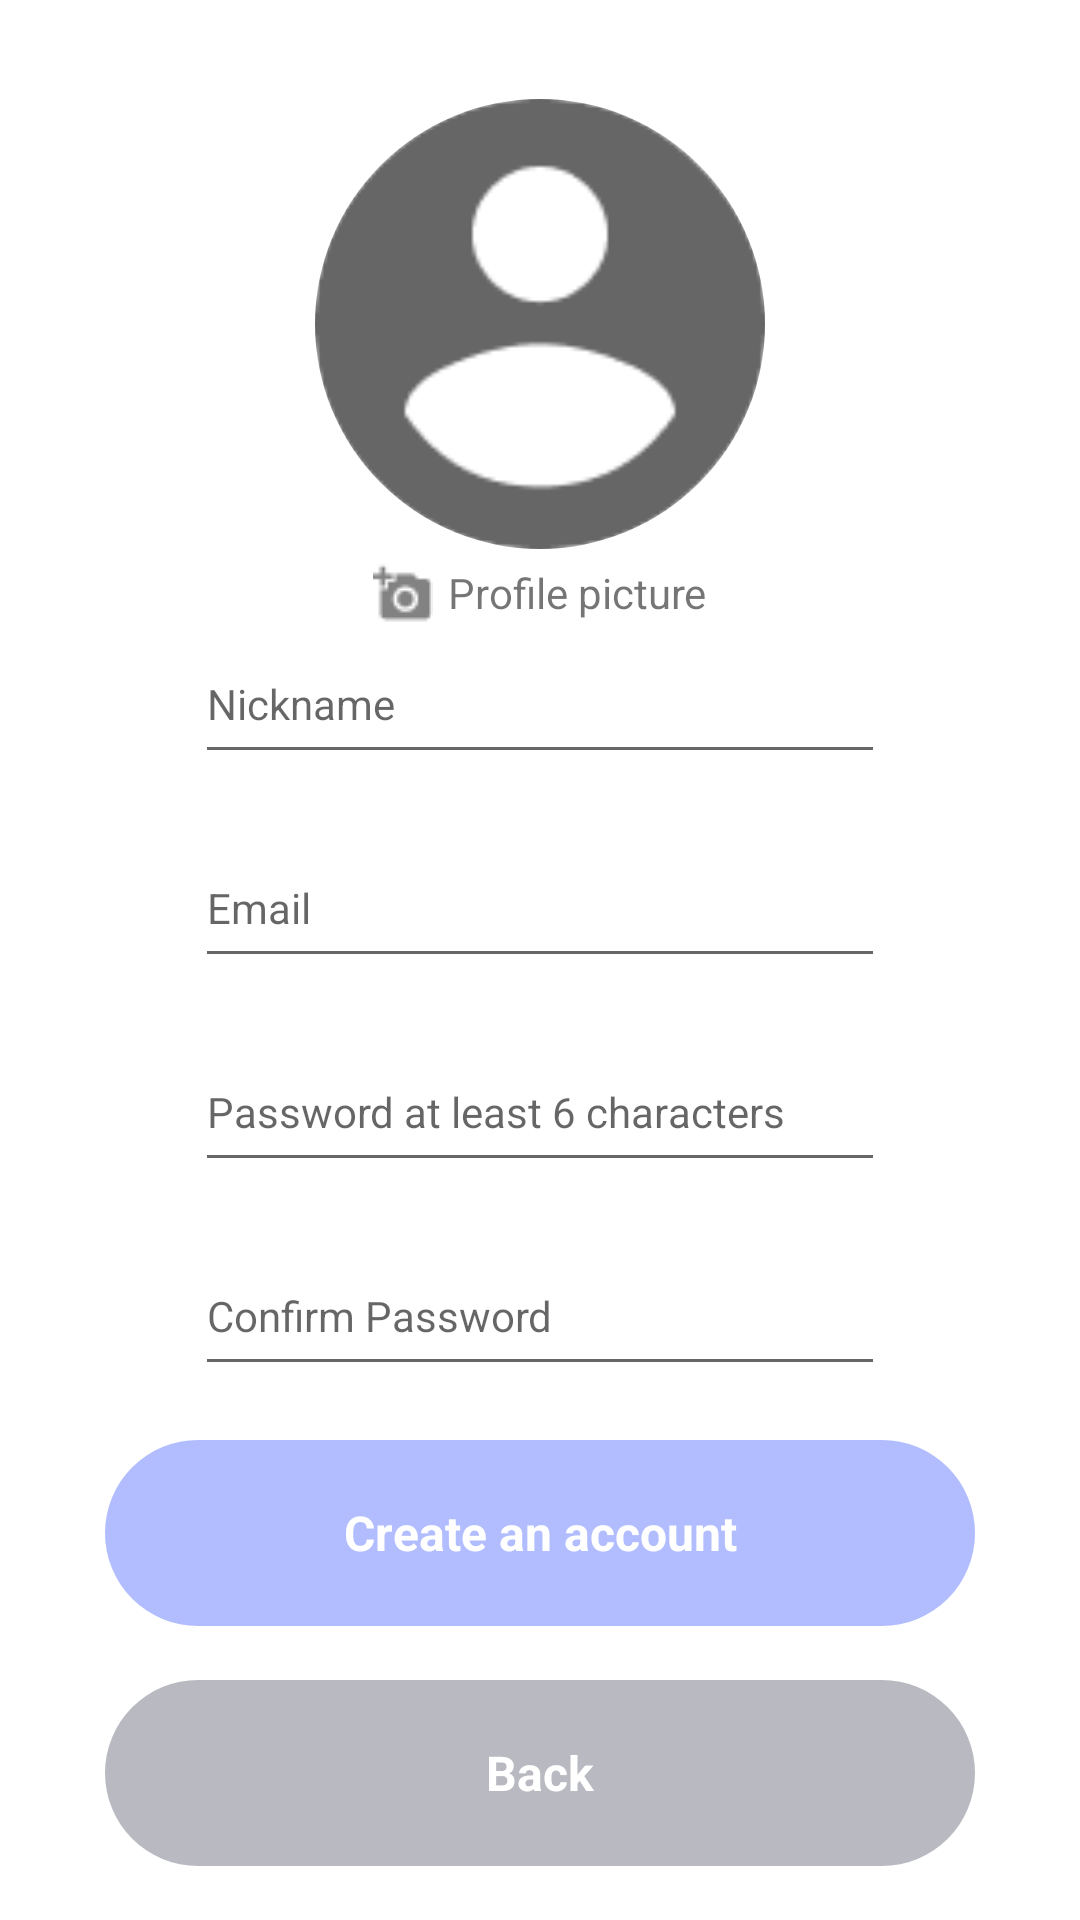

Locate icon controls on the screen. Image size 1080x1920, boxes as (x1, y1, x2, y2).
photo: (373, 566, 431, 621)
